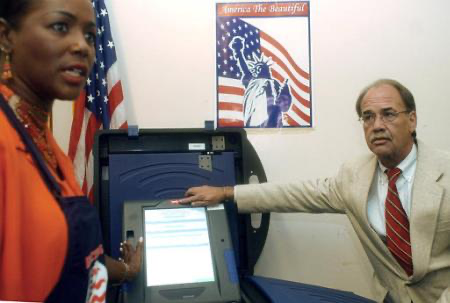Face: (24, 1, 103, 108), (353, 94, 422, 160)
